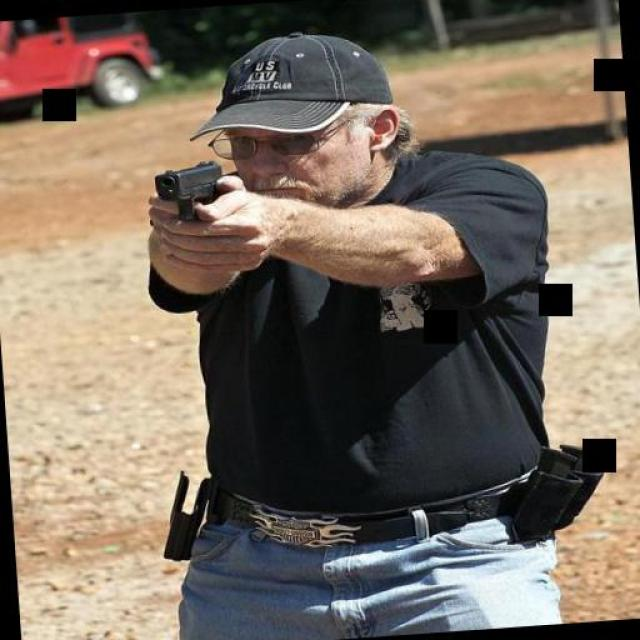gun: (148, 156, 230, 214)
